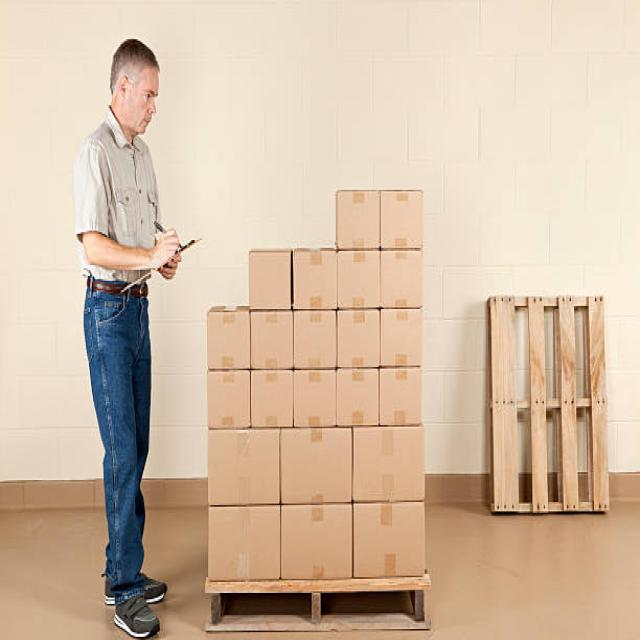Wooden-Pallets: (482, 285, 610, 519), (202, 578, 430, 636)
